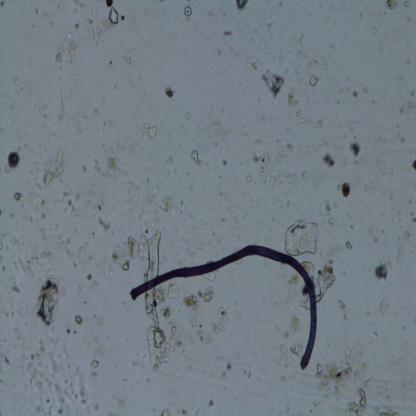Background material: (313, 340, 381, 405), (29, 336, 88, 404), (35, 274, 63, 327), (108, 236, 143, 276), (246, 150, 280, 190), (84, 2, 118, 40), (304, 260, 336, 300), (285, 218, 317, 258), (184, 286, 215, 327), (167, 322, 192, 365), (202, 307, 228, 347), (197, 118, 229, 148), (41, 150, 66, 187), (275, 338, 303, 365), (262, 69, 286, 98), (294, 107, 324, 130), (373, 250, 393, 282), (316, 196, 336, 226), (55, 36, 79, 61), (158, 193, 180, 220), (189, 142, 207, 168), (349, 388, 366, 415), (140, 121, 162, 141), (1, 151, 22, 171), (102, 152, 122, 173), (345, 136, 363, 159), (60, 196, 80, 216), (335, 297, 351, 321), (336, 177, 352, 200), (287, 314, 302, 336), (166, 281, 180, 302), (97, 214, 114, 231), (323, 150, 336, 172), (376, 294, 390, 313), (363, 224, 377, 242), (287, 92, 298, 110), (307, 73, 319, 89), (183, 6, 194, 23), (162, 85, 175, 99), (385, 0, 400, 12), (89, 356, 100, 372), (10, 282, 22, 296), (235, 0, 250, 11), (205, 400, 216, 414), (12, 190, 24, 202), (84, 270, 94, 284), (223, 28, 234, 39), (74, 314, 84, 325), (409, 159, 416, 173), (160, 408, 172, 416), (345, 239, 352, 249)
Cellulose filter fibre: (142, 235, 167, 367)
Microfibre: (131, 244, 317, 369)
